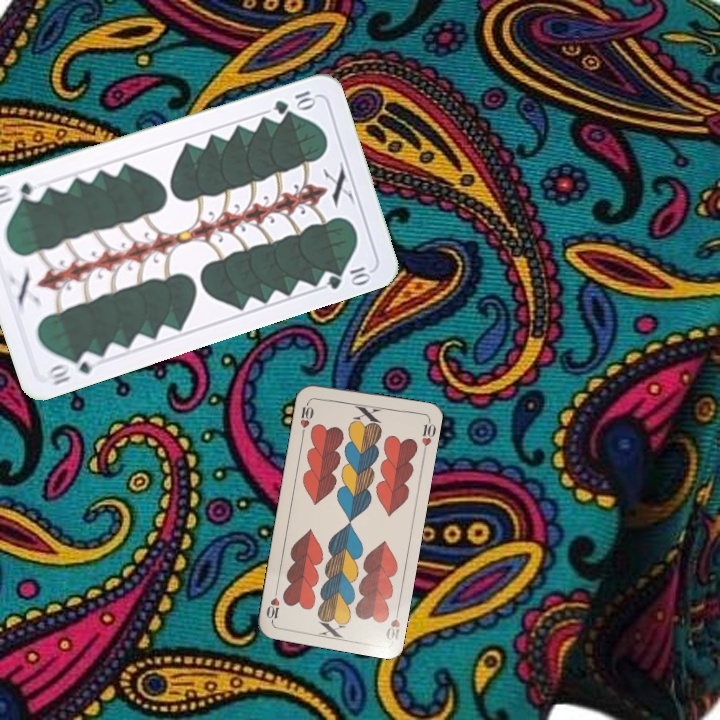G10: (42, 347, 102, 388), (270, 86, 319, 117)
H10: (382, 603, 403, 643), (296, 397, 316, 437)
